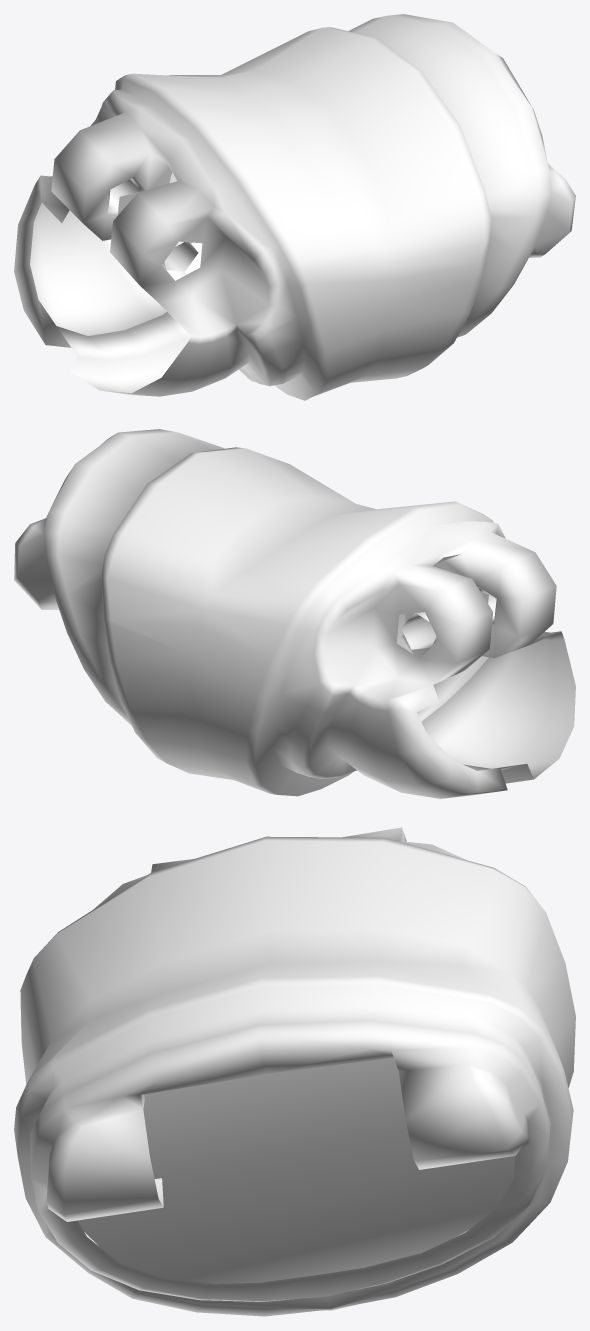
File: LFinger11.dae
3 renders of one model, top to bottom at view 1: azimuth 30°, elevation 25°; view 2: azimuth 150°, elevation 25°; view 3: azimuth 270°, elevation 25°, orthographic. The views are drawn at different scales.
Visible parts, largest first — view 1: LFinger11; view 2: LFinger11; view 3: LFinger11.
Part boxes in pixels (x1=…): LFinger11: x1=14, y1=14, x2=575, y2=400; LFinger11: x1=14, y1=429, x2=575, y2=798; LFinger11: x1=14, y1=827, x2=575, y2=1316.
Size of the model in its own units: 0.1938 by 0.16 by 0.1192.
1 material, 1 textured.
